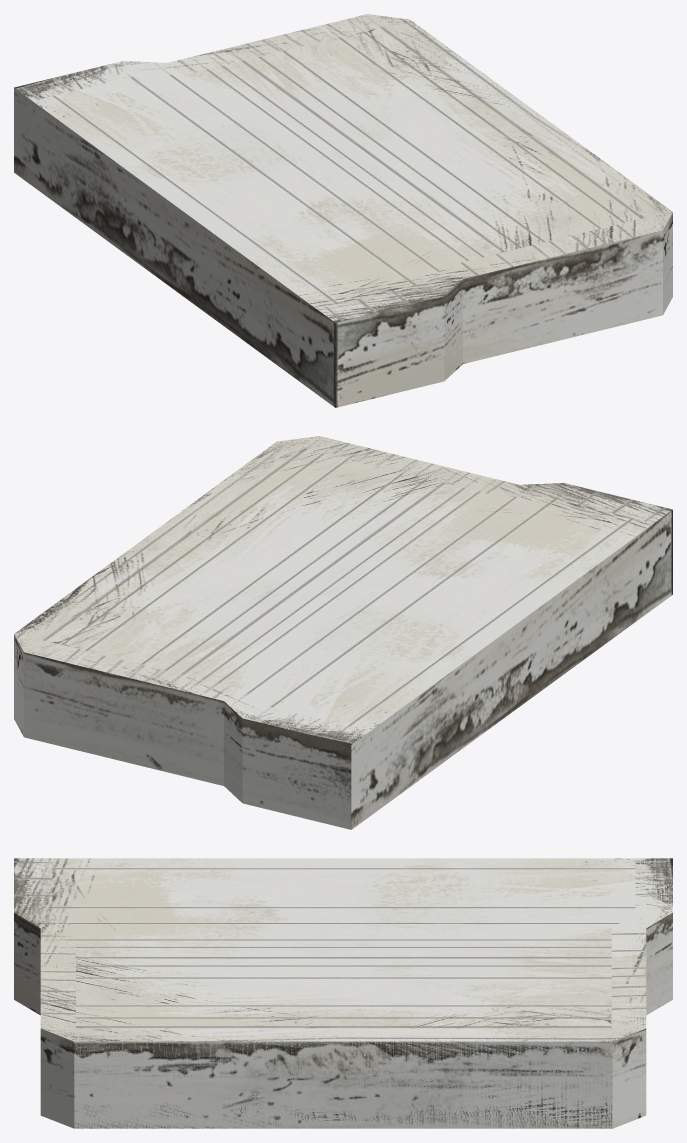
File: Platform23.fbx
3 views of the same model, one above another, from view 1: azimuth 30°, elevation 25°; view 2: azimuth 150°, elevation 25°; view 3: azimuth 270°, elevation 25° (orthographic). The views are drawn at different scales.
Parts seen in each view (by area): view 1: Platform3, Platform2; view 2: Platform3, Platform2; view 3: Platform3, Platform2.
Part boxes in pixels (box(x1,y1,x2,y2)): Platform3: box(14, 14, 672, 407); Platform2: box(14, 14, 672, 407); Platform3: box(14, 436, 672, 829); Platform2: box(14, 436, 672, 829); Platform3: box(14, 858, 672, 1128); Platform2: box(14, 858, 672, 1128).
Size of the model in its own units: 143 by 31.74 by 218.
